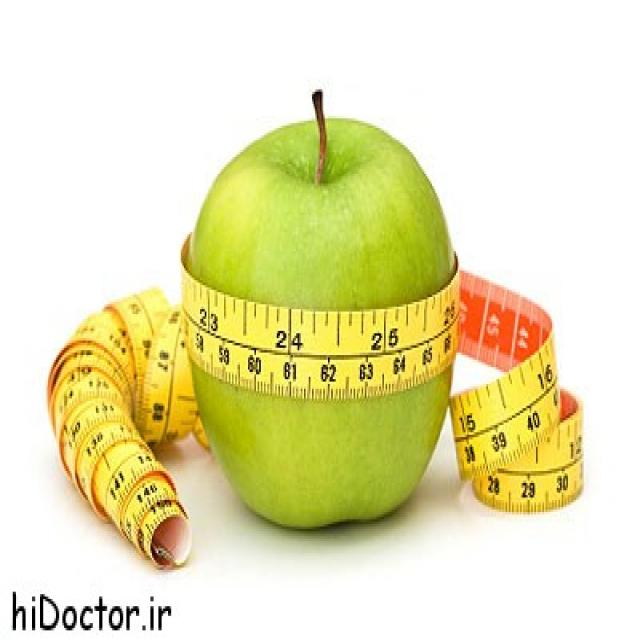apple: (187, 87, 451, 534)
